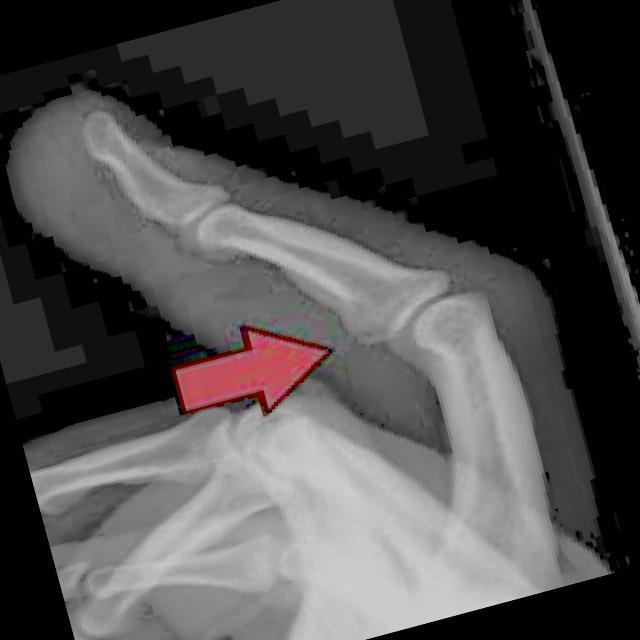Avlusion Fracture: (333, 312, 411, 368)
